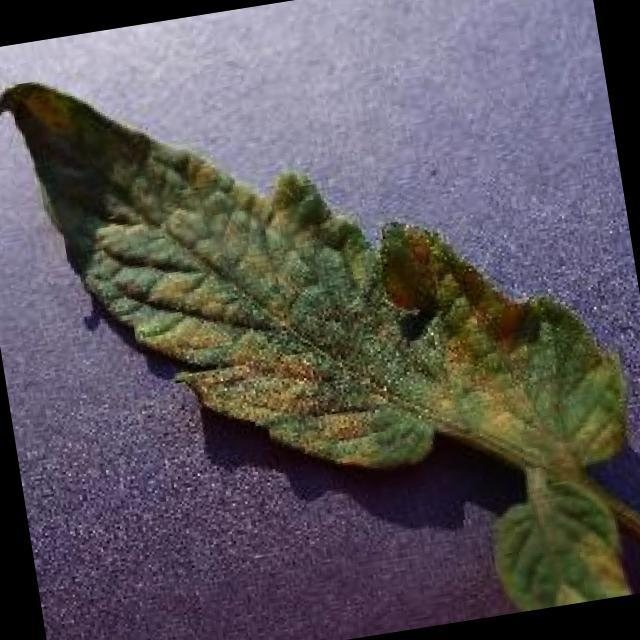Tomato mold leaf: (0, 0, 638, 548), (481, 472, 628, 616)
